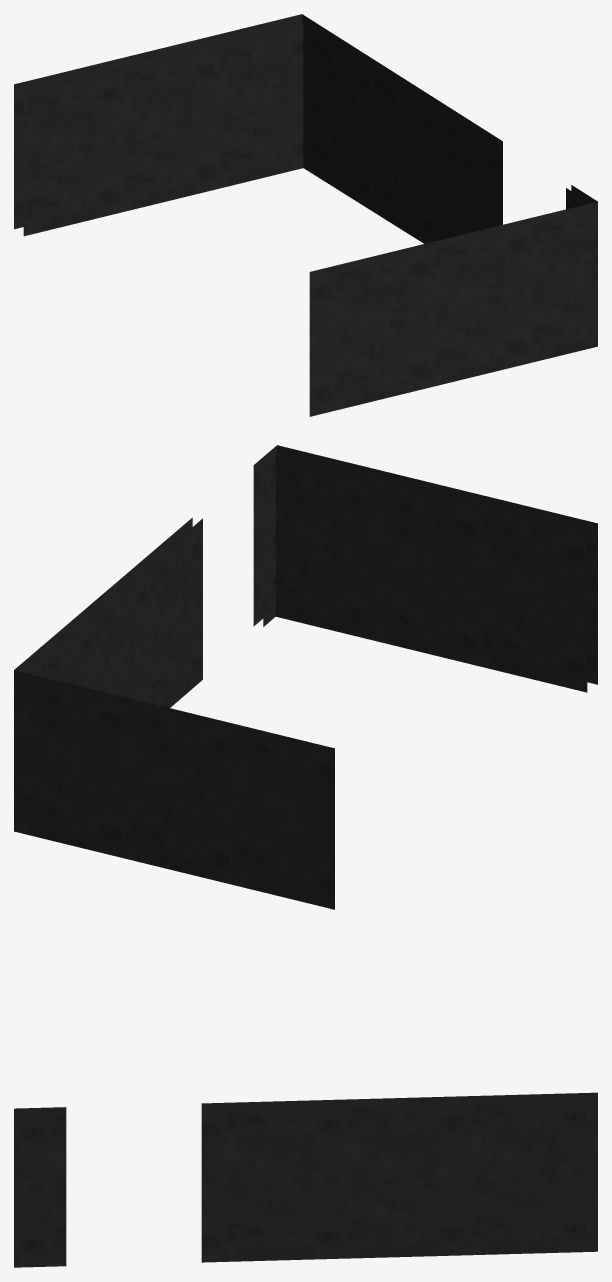
Rendered from mesh_CellCorner_room_wall.fbx.
3 views of the same model, one above another, from view 1: azimuth 30°, elevation 25°; view 2: azimuth 150°, elevation 25°; view 3: azimuth 270°, elevation 25° (orthographic). The views are drawn at different scales.
Visible parts, largest first — view 1: CellCorner_room_wall; view 2: CellCorner_room_wall; view 3: CellCorner_room_wall.
Boxes of the visible parts, bbox=[...] form: CellCorner_room_wall: bbox=[14, 14, 597, 416]; CellCorner_room_wall: bbox=[14, 445, 597, 909]; CellCorner_room_wall: bbox=[14, 1092, 597, 1267].
Bounding box in the file's own units: 574 × 250 × 832.
